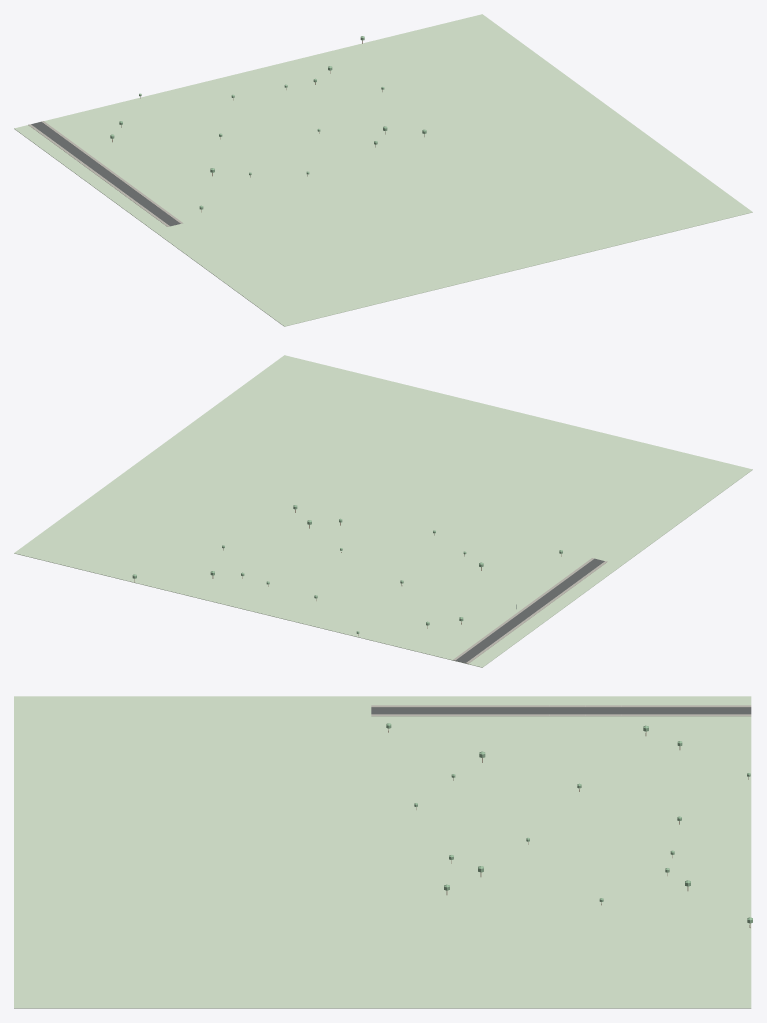
Rendered from chunk_2_7_low.glb.
3 renders of one model, top to bottom at view 1: azimuth 30°, elevation 25°; view 2: azimuth 150°, elevation 25°; view 3: azimuth 270°, elevation 25°, orthographic. The views are drawn at different scales.
Parts seen in each view (by area): view 1: city_grass, city_world_asphalt, city_world_sidewalk; view 2: city_grass, city_world_asphalt, city_world_sidewalk; view 3: city_grass, city_world_asphalt, city_world_sidewalk.
Part boxes in pixels (x1,y1,x2,y2): city_grass: (14,14,752,326); city_world_asphalt: (31,122,180,226); city_world_sidewalk: (28,121,182,226); city_grass: (14,355,752,667); city_world_asphalt: (455,558,604,663); city_world_sidewalk: (453,558,607,663); city_grass: (14,696,751,1008); city_world_asphalt: (371,707,751,714); city_world_sidewalk: (371,705,751,716).
Bounding box in the file's own units: 512 × 9.26 × 513.
